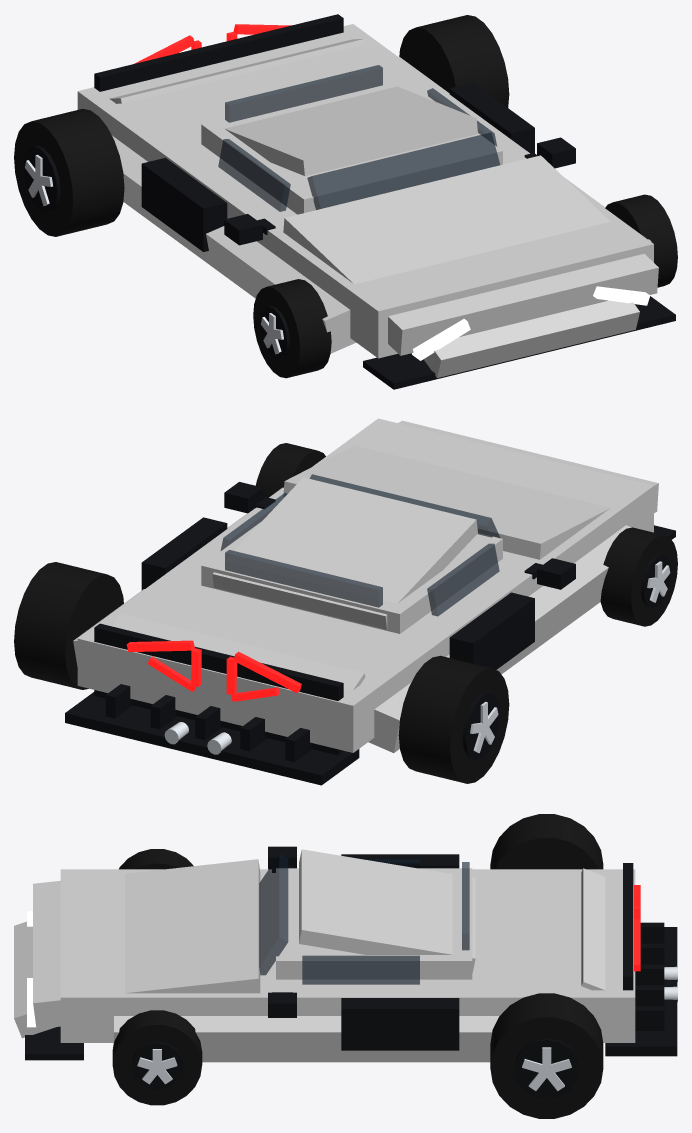
Rendered from lambchop-chupacabra.glb.
The picture shows the model from 3 angles, top to bottom: view 1: azimuth 30°, elevation 25°; view 2: azimuth 150°, elevation 25°; view 3: azimuth 270°, elevation 25°; orthographic projection. The views are drawn at different scales.
Visible parts, largest first — view 1: chassis, body, wheel-back-left, glass, wheel-back-right, wheel-front-left, wheel-front-right; view 2: chassis, body, wheel-back-left, wheel-back-right, wheel-front-left, wheel-front-right, glass; view 3: chassis, body, wheel-back-right, wheel-front-right, wheel-back-left, glass, wheel-front-left.
Boxes of the visible parts, bbox=[...] form: chassis: bbox=[94, 14, 675, 389]; body: bbox=[77, 24, 653, 358]; wheel-back-left: bbox=[14, 108, 124, 236]; glass: bbox=[307, 132, 500, 209]; wheel-back-right: bbox=[399, 15, 509, 107]; wheel-front-left: bbox=[253, 279, 331, 378]; wheel-front-right: bbox=[605, 194, 677, 287]; chassis: bbox=[65, 420, 675, 785]; body: bbox=[77, 418, 653, 752]; wheel-back-left: bbox=[398, 655, 509, 783]; wheel-back-right: bbox=[14, 562, 123, 689]; wheel-front-left: bbox=[600, 527, 677, 626]; wheel-front-right: bbox=[256, 443, 325, 498]; glass: bbox=[309, 474, 499, 537]; chassis: bbox=[14, 846, 677, 1062]; body: bbox=[60, 869, 635, 1042]; wheel-back-right: bbox=[490, 993, 603, 1118]; wheel-front-right: bbox=[112, 1010, 202, 1105]; wheel-back-left: bbox=[490, 814, 603, 869]; glass: bbox=[259, 854, 288, 975]; wheel-front-left: bbox=[119, 849, 193, 869].
Bounding box in the file's own units: 3.77 × 1.08 × 5.07.
